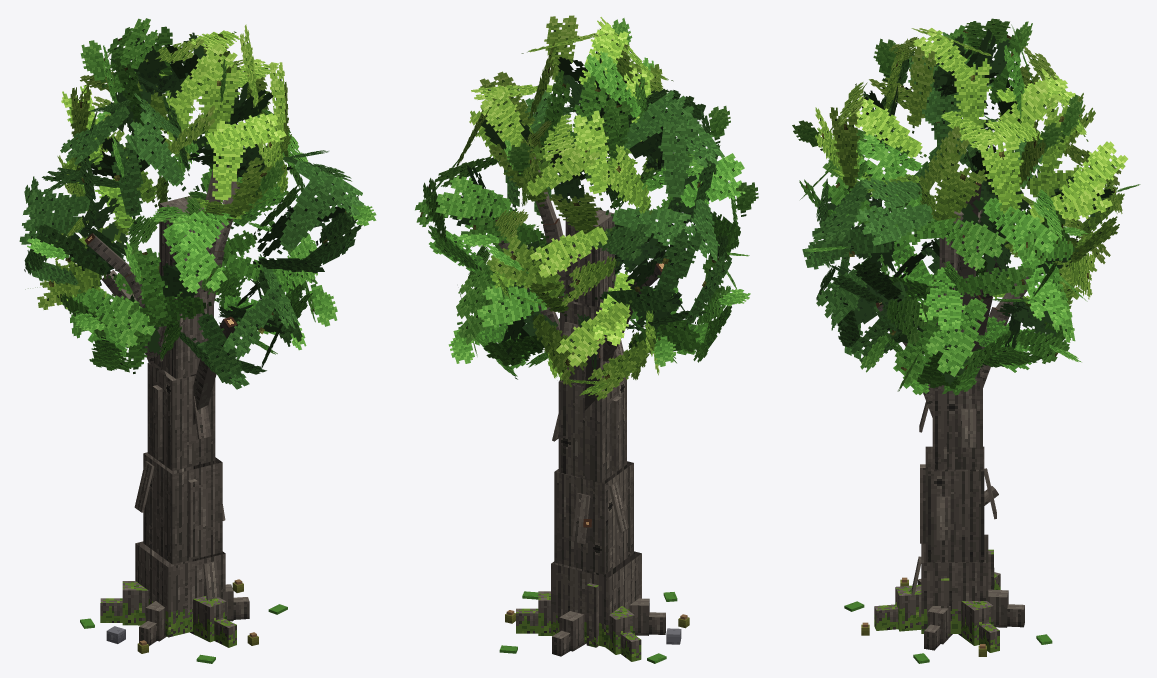
File: hickory_tree.glb
3 views of the same model, side by side, from view 1: azimuth 30°, elevation 25°; view 2: azimuth 150°, elevation 25°; view 3: azimuth 270°, elevation 25° (orthographic).
Visible parts, largest first — view 1: trunk, cluster_10, cluster_6, cluster_14, cluster_11, cluster_9, cluster_1, cluster_5, cluster_15, cluster_16, cluster_12, cluster_2 (+16 smaller); view 2: trunk, cluster_9, cluster_13, cluster_14, cluster_4, cluster_8, cluster_7, cluster_3, cluster_12, cluster_16, cluster_15, cluster_10 (+20 smaller); view 3: trunk, cluster_7, cluster_2, cluster_6, cluster_12, cluster_15, cluster_3, cluster_8, cluster_11, cluster_13, cluster_1, cluster_10 (+14 smaller).
Part boxes in pixels (x1,y1,x2,y2): trunk: (135, 196, 225, 637); cluster_10: (128, 196, 237, 327); cluster_6: (245, 150, 363, 275); cluster_14: (60, 93, 189, 224); cluster_11: (167, 105, 288, 220); cluster_9: (19, 153, 125, 285); cluster_1: (171, 249, 302, 389); cluster_5: (57, 273, 182, 373); cluster_15: (155, 24, 258, 148); cluster_16: (102, 18, 200, 129); cluster_12: (166, 59, 291, 170); cluster_2: (216, 213, 317, 354); trunk: (551, 209, 641, 647); cluster_9: (592, 197, 731, 330); cluster_13: (521, 110, 652, 234); cluster_14: (597, 90, 724, 224); cluster_4: (530, 267, 660, 400); cluster_8: (486, 209, 620, 315); cluster_7: (415, 144, 548, 273); cluster_3: (456, 248, 572, 379); cluster_12: (454, 71, 552, 206); cluster_16: (539, 51, 647, 164); cluster_15: (521, 15, 659, 120); cluster_10: (608, 150, 745, 260); trunk: (921, 211, 988, 633); cluster_7: (933, 189, 1078, 302); cluster_2: (883, 261, 1015, 395); cluster_6: (802, 174, 933, 304); cluster_12: (918, 109, 1045, 221); cluster_15: (884, 28, 998, 144); cluster_3: (976, 258, 1087, 372); cluster_8: (1021, 141, 1127, 266); cluster_11: (815, 78, 926, 197); cluster_13: (989, 46, 1095, 183); cluster_1: (816, 255, 919, 367); cluster_10: (799, 129, 927, 230).
Size of the model in its own units: 3.99 by 7.48 by 3.96.
Materials: 1 (1 with a texture image).
